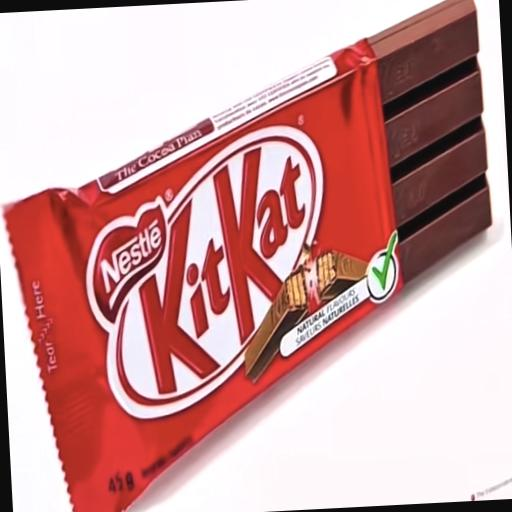kitkat: (0, 105, 447, 496)
